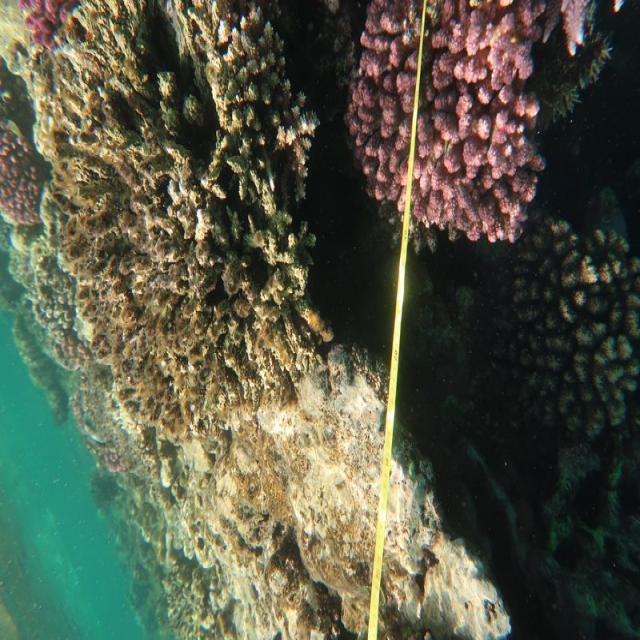Healthy Coral: (346, 0, 547, 253)
